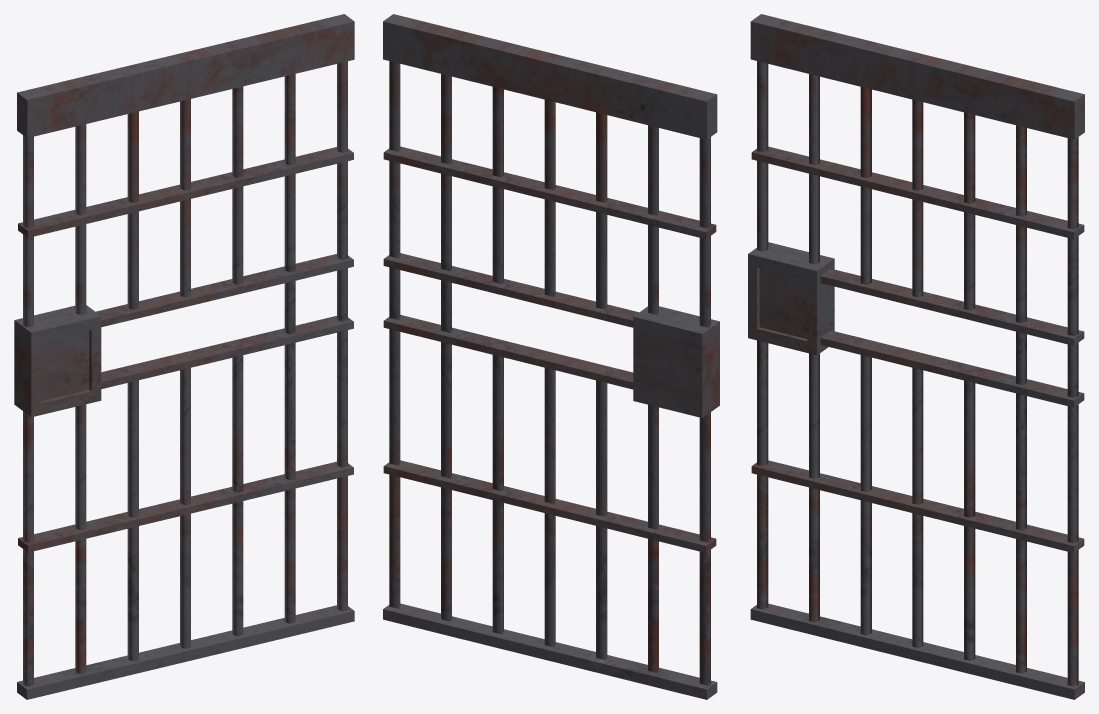
File: celldoor.glb
3 views of the same model, side by side, from view 1: azimuth 30°, elevation 25°; view 2: azimuth 150°, elevation 25°; view 3: azimuth 330°, elevation 25° (orthographic).
Parts seen in each view (by area): view 1: door_lambert24_0.004; view 2: door_lambert24_0.004; view 3: door_lambert24_0.004.
Boxes of the visible parts, <box> form: door_lambert24_0.004: <box>14,14,354,699</box>; door_lambert24_0.004: <box>383,14,719,699</box>; door_lambert24_0.004: <box>748,14,1084,699</box>.
Size of the model in its own units: 1.07 by 1.88 by 0.1009.
Materials: 1 (1 with a texture image).
